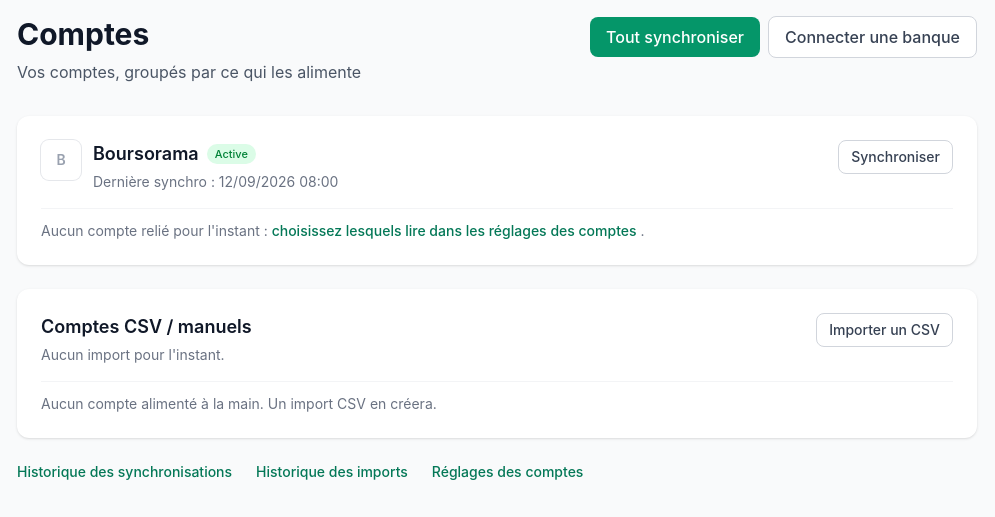
Test: AccountsPage › syncs one connection and shows the outcome on its card
Click the button with test id "sync-one-button" at [896, 157], box [838, 140, 953, 174]
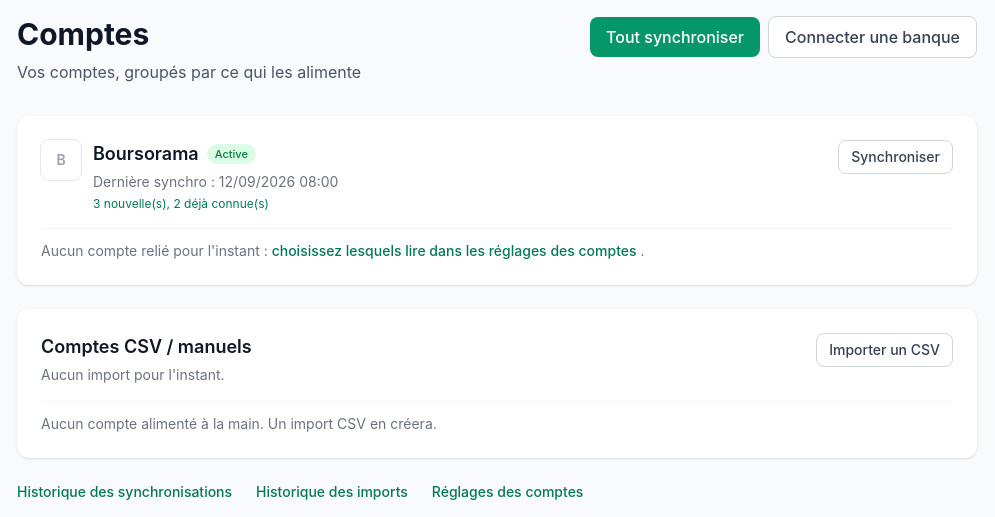
Now the text with test id "sync-outcome" shows "3 nouvelle(s)", box [93, 196, 269, 211]
